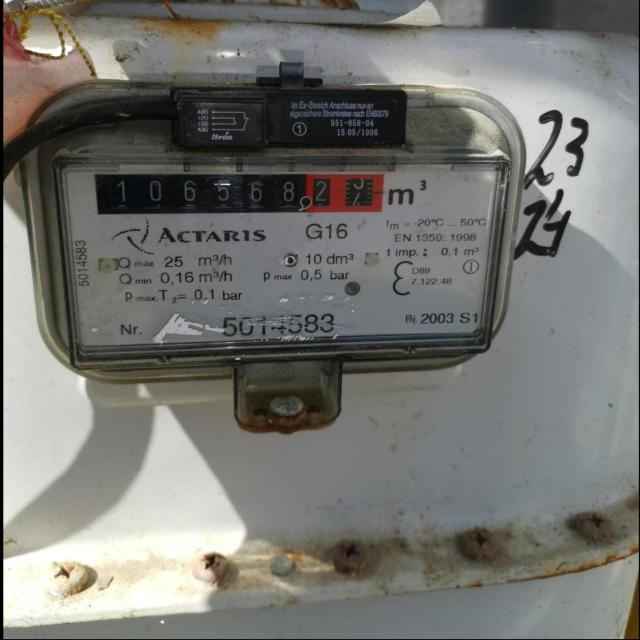gaz_meter: (57, 158, 485, 341)
indication: (95, 172, 387, 217)
